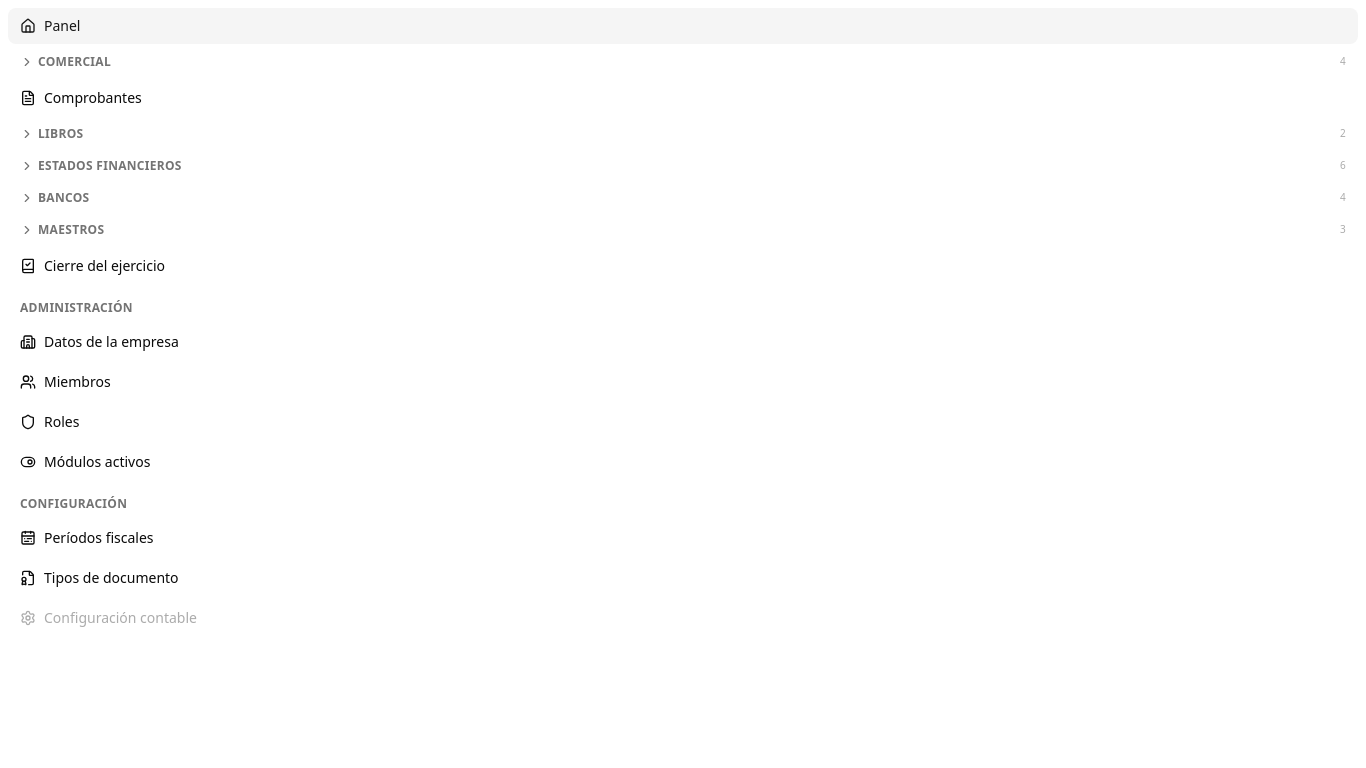
Test: NAV_SECTIONS — subgrupos colapsables › un segundo click vuelve a plegar el grupo
Click the button "Libros 2": click(61, 134) x1=8 y1=120 x2=1358 y2=148
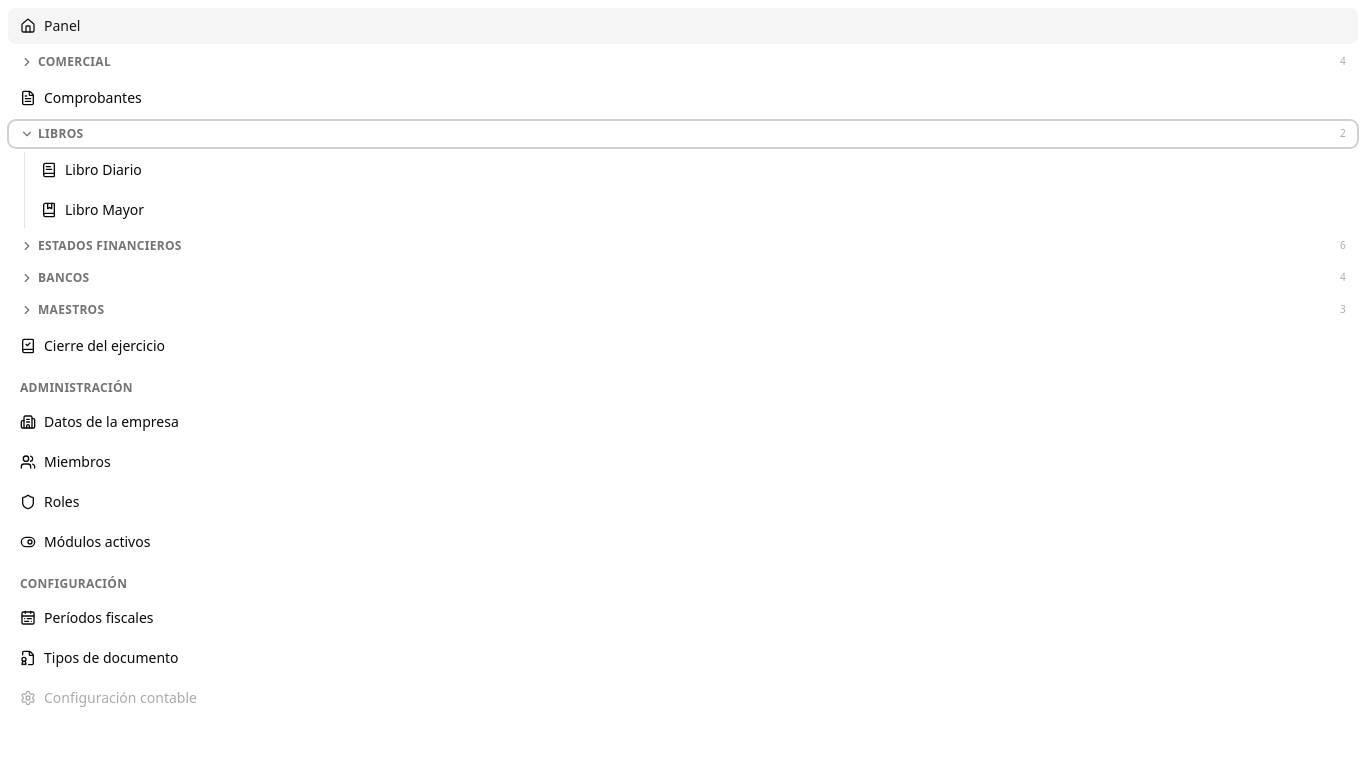
Result: the text "Libro Diario" is shown at x1=65 y1=160 x2=142 y2=180
Click the button "Libros 2": click(61, 134) x1=8 y1=120 x2=1358 y2=148
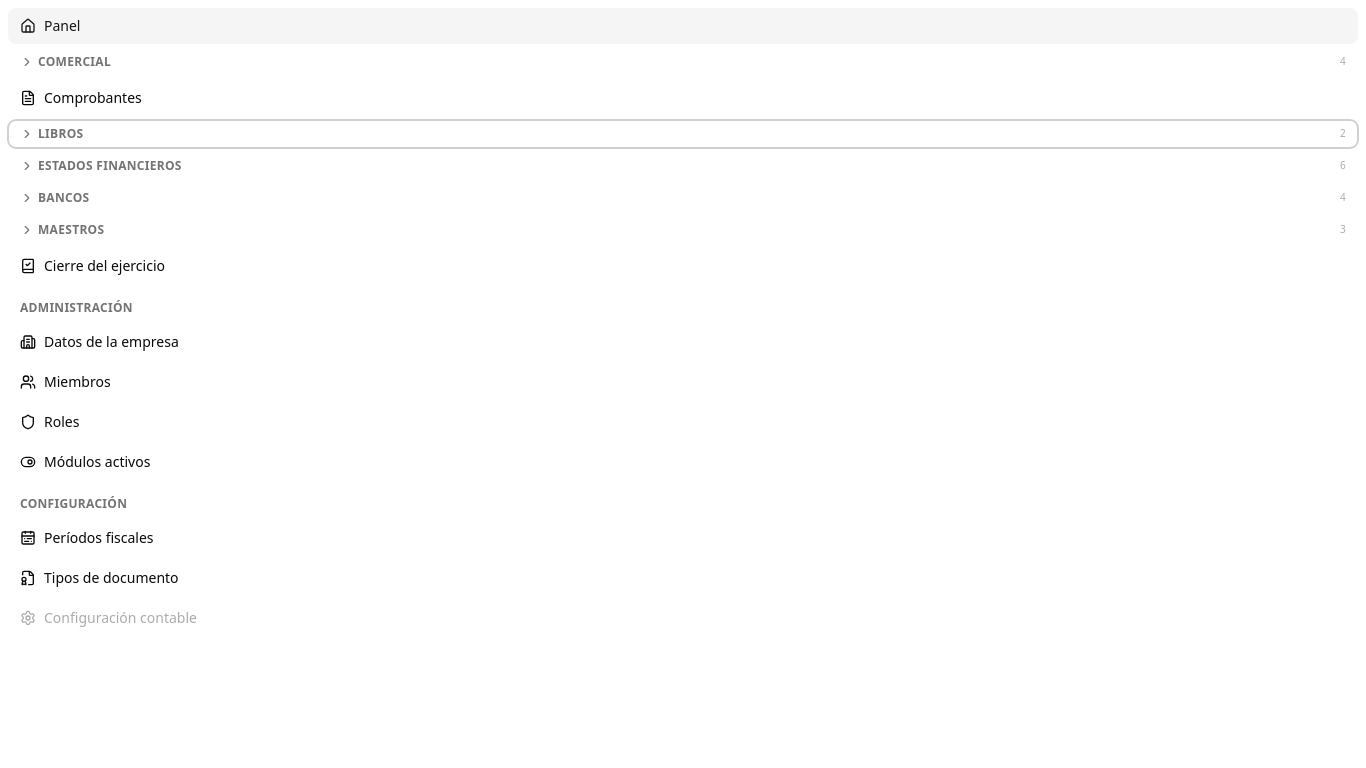
Result: the link "Libro Diario" is gone
